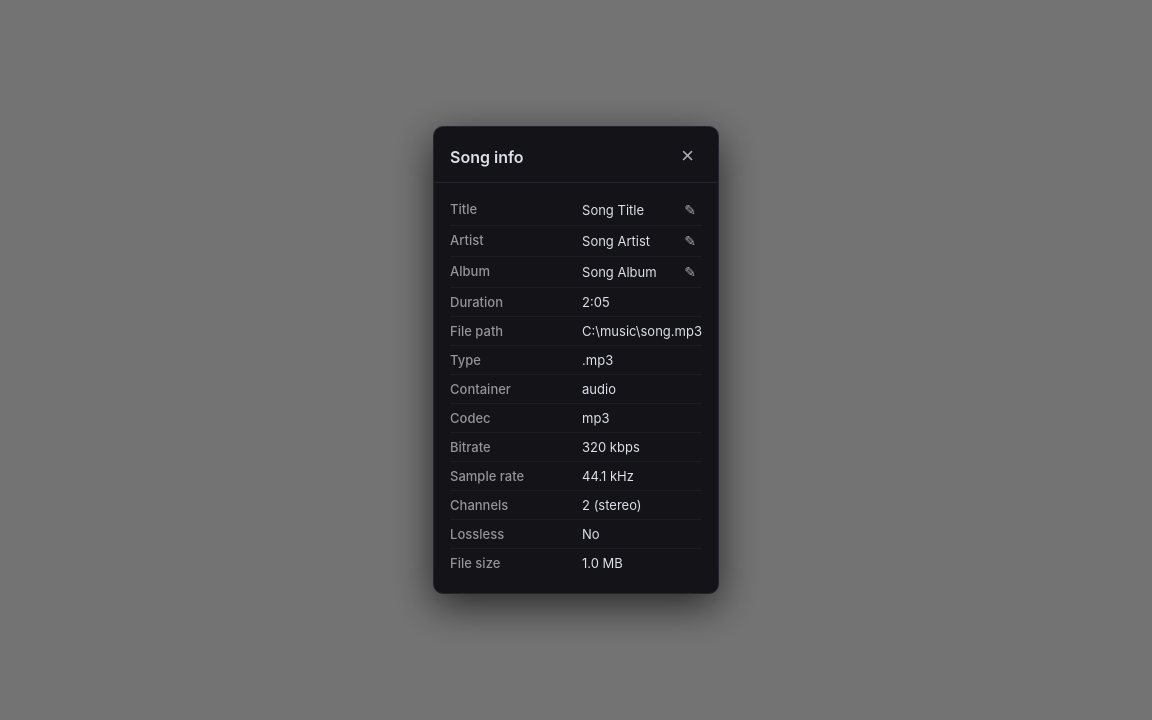
Test case: <SongInfoDialog /> › shows IPC error message when tag save fails
Click the button named "Edit Title".
click(690, 210)  # box top-left (678, 201), bottom-right (702, 219)
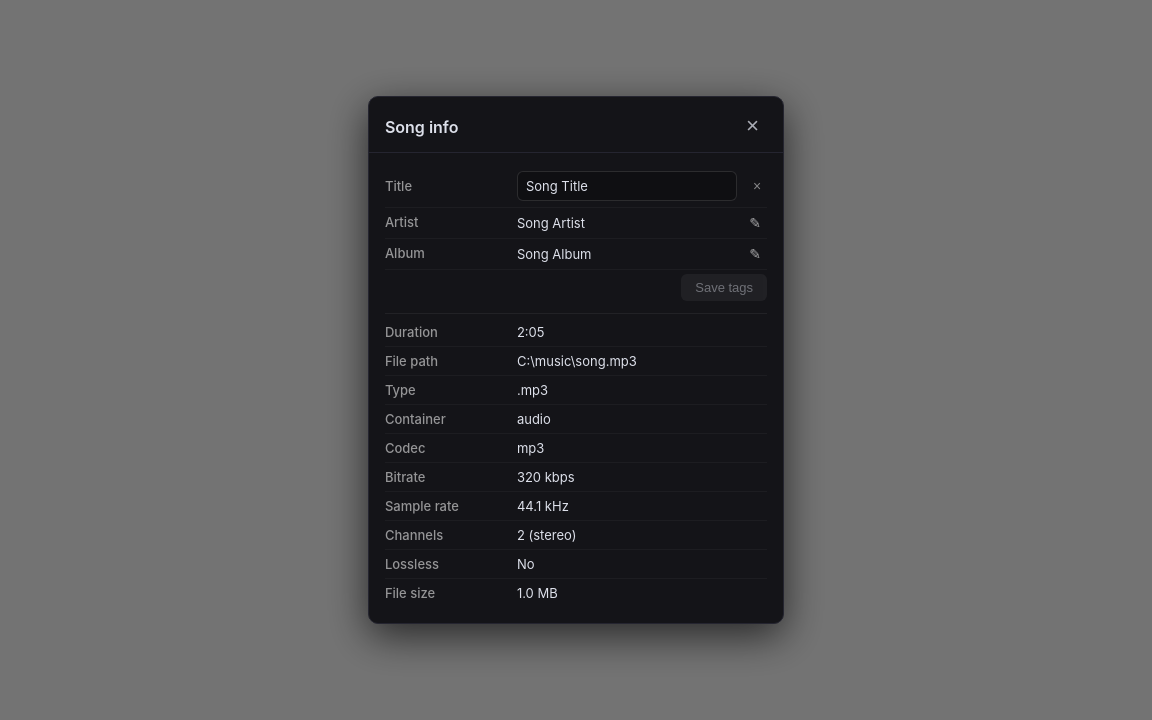
Replace the text in the field with id "song-info-edit-title" with "New Title" at [627, 186], box top-left (517, 171), bottom-right (737, 201)
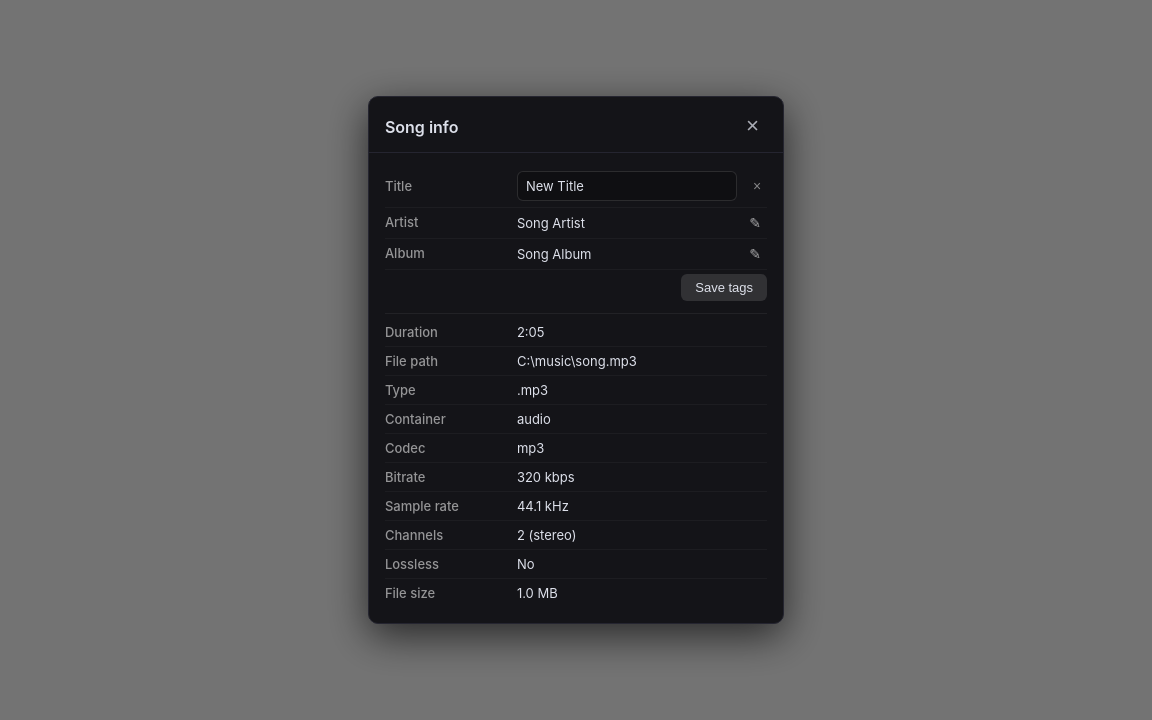
Click the button "Save tags".
click(724, 287)  # box top-left (681, 274), bottom-right (767, 301)
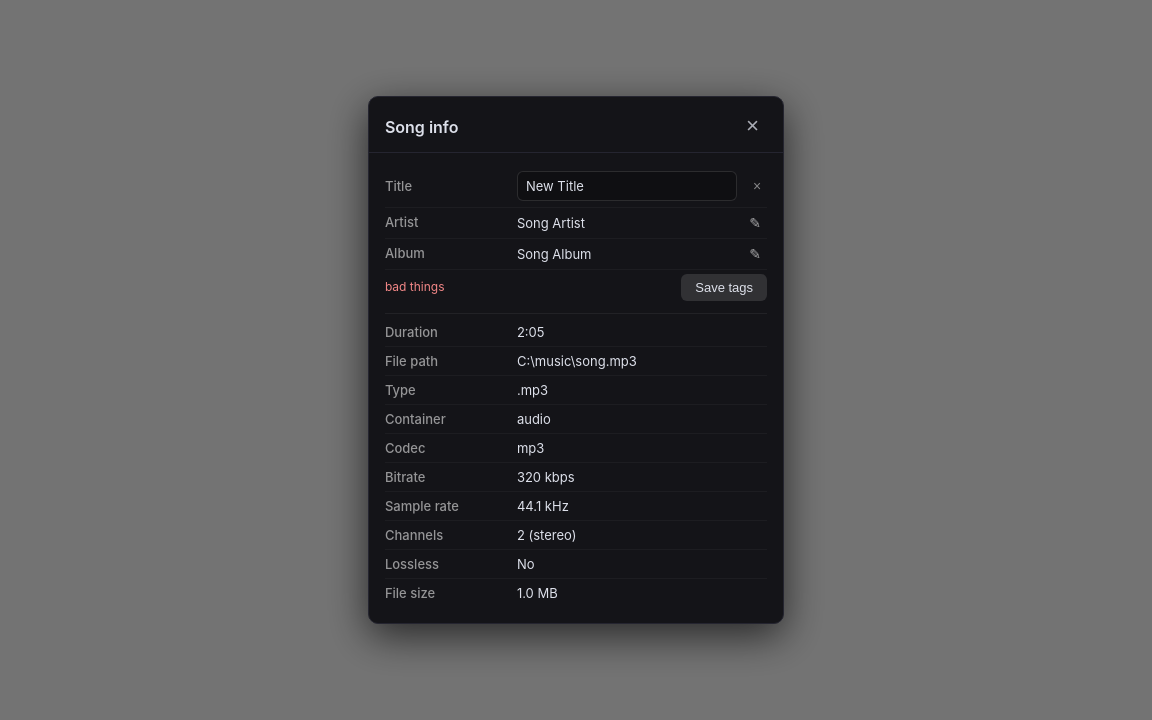
Expected: the message reads "bad things", top-left (385, 279), bottom-right (444, 294)
